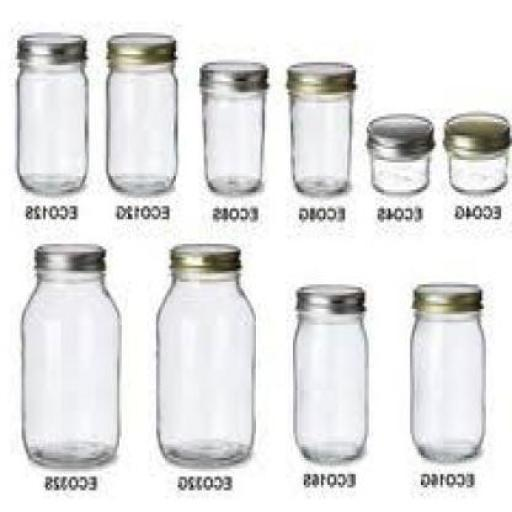glass: (23, 268, 122, 463), (158, 268, 257, 460), (414, 308, 488, 461), (297, 312, 371, 460), (108, 60, 180, 192), (20, 60, 91, 192), (204, 86, 269, 192), (295, 87, 356, 195), (450, 149, 511, 194), (373, 152, 432, 193)
metal: (369, 108, 436, 155), (447, 108, 511, 155), (106, 30, 178, 65), (202, 57, 271, 87), (416, 279, 486, 306), (288, 60, 358, 86), (173, 241, 245, 266), (300, 282, 366, 309), (37, 241, 108, 266), (20, 30, 88, 56)
